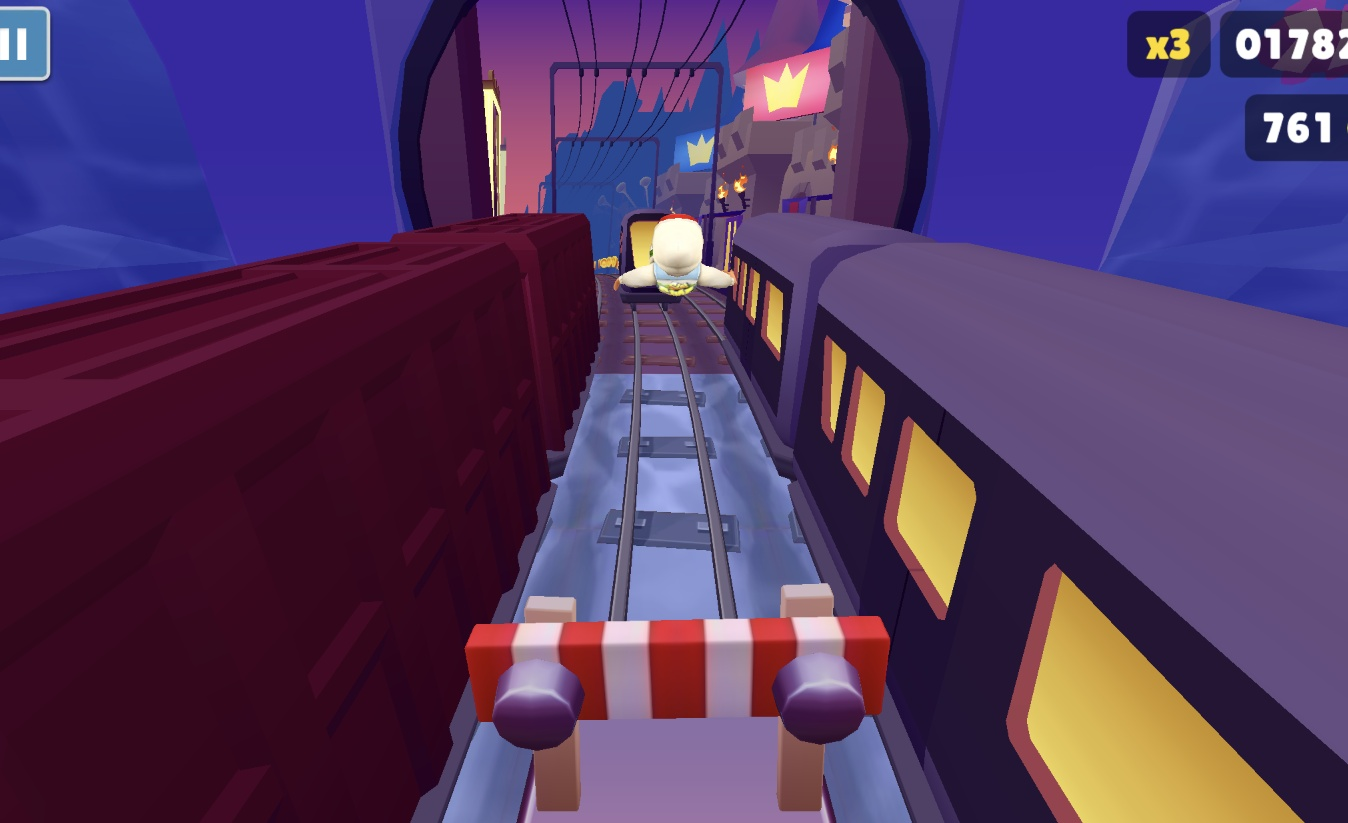ground_barrier: (466, 583, 894, 815)
train: (728, 212, 1348, 823), (0, 213, 600, 823), (616, 209, 708, 305)
